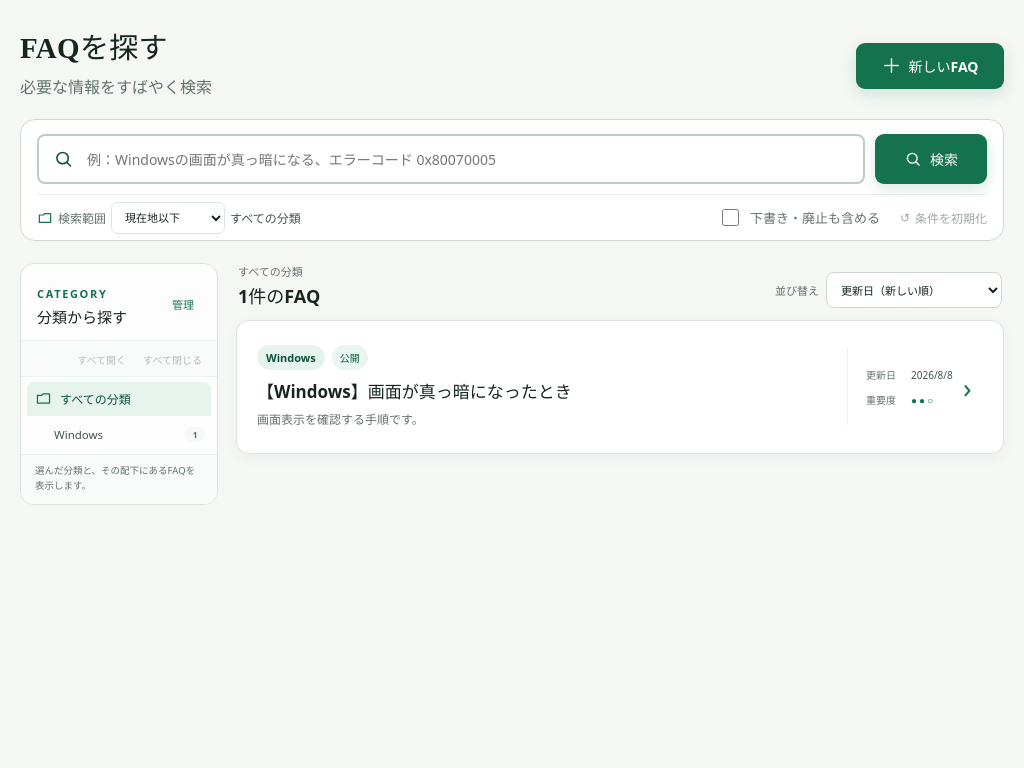
Test: SearchPage › restores the keyword and results after opening an FAQ and returning to the list
(page scrolled)
Expected: the heading "【Windows】画面が真っ暗になったとき" is shown, [257, 380, 572, 403]
Type "真っ暗" into the field named "検索キーワード" at (451, 159), box [37, 134, 865, 184]
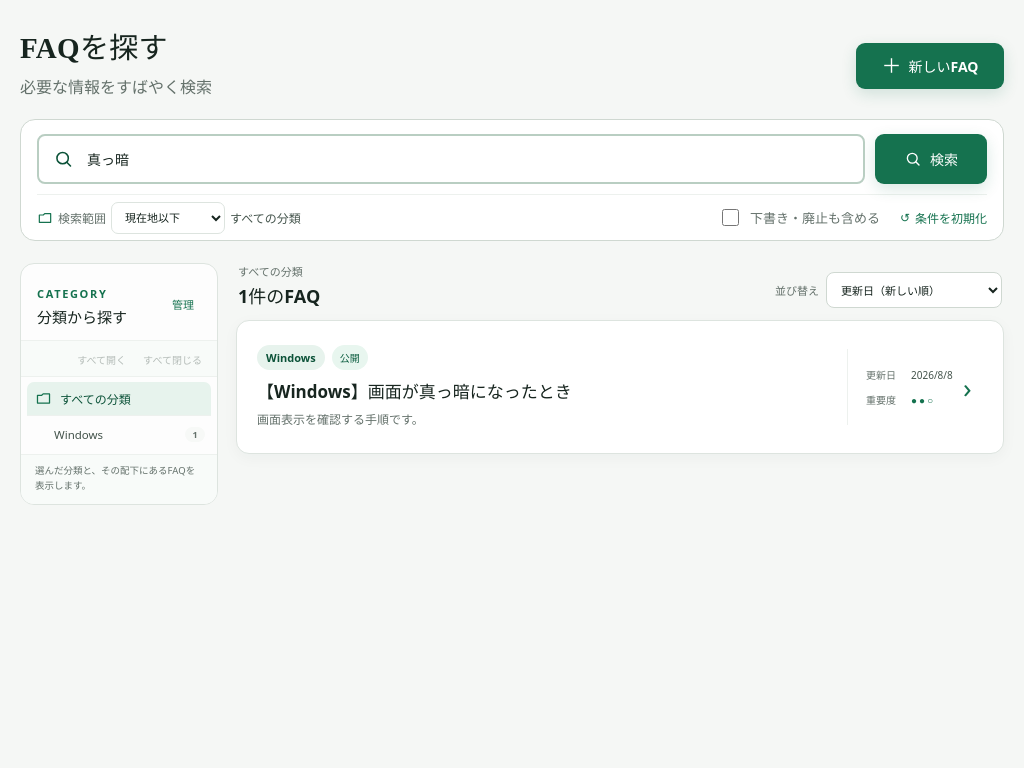
Click the button "検索" at (931, 159), box [875, 134, 987, 184]
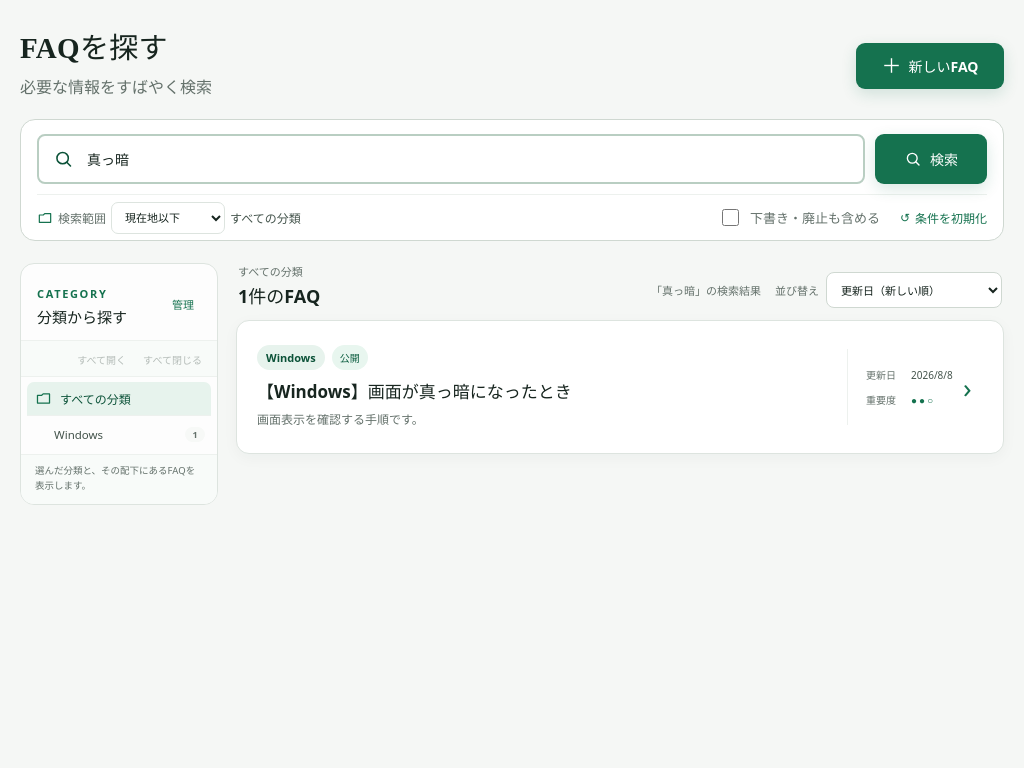
Click the heading "【Windows】画面が真っ暗になったとき" at (414, 392), box [257, 380, 572, 403]
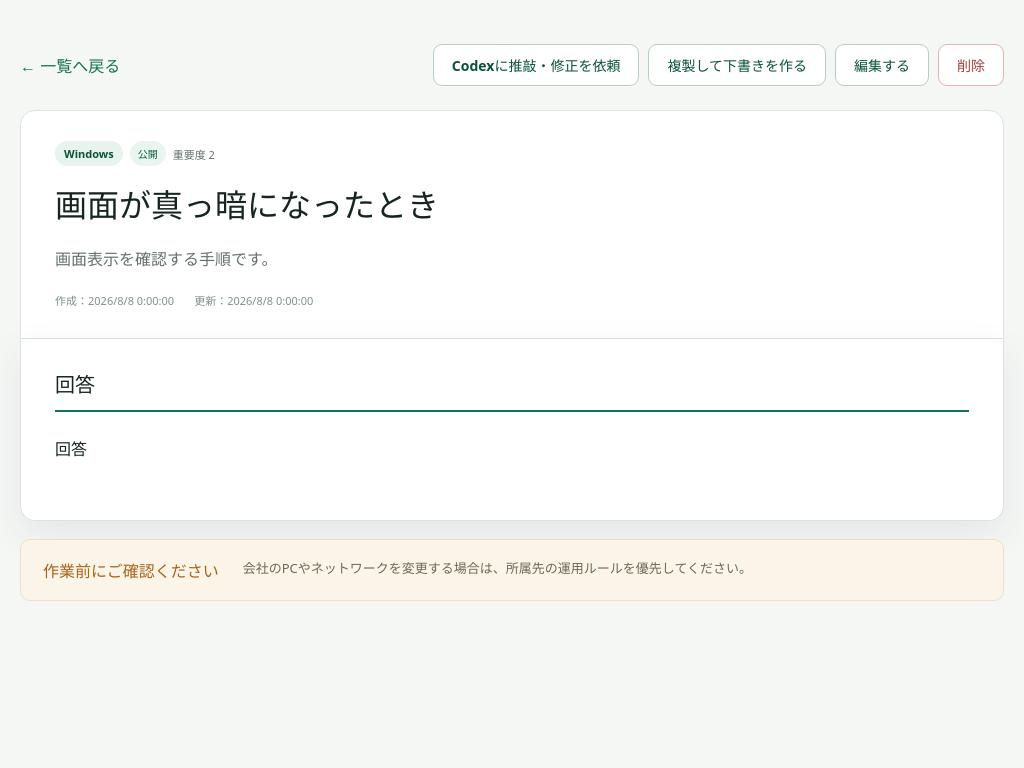
Click the link "← 一覧へ戻る" at (70, 65), box [20, 53, 120, 77]
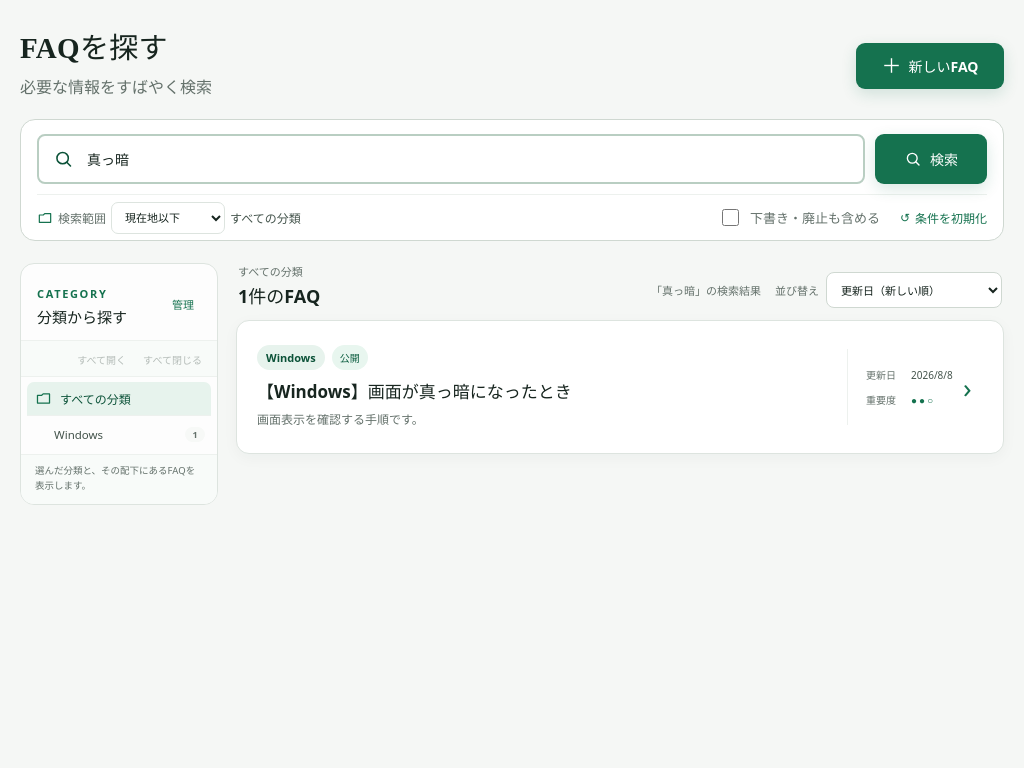
Result: the field named "検索キーワード" holds "真っ暗" at [37, 134, 865, 184]
Result: the text "「真っ暗」の検索結果" is shown at [651, 282, 761, 298]
